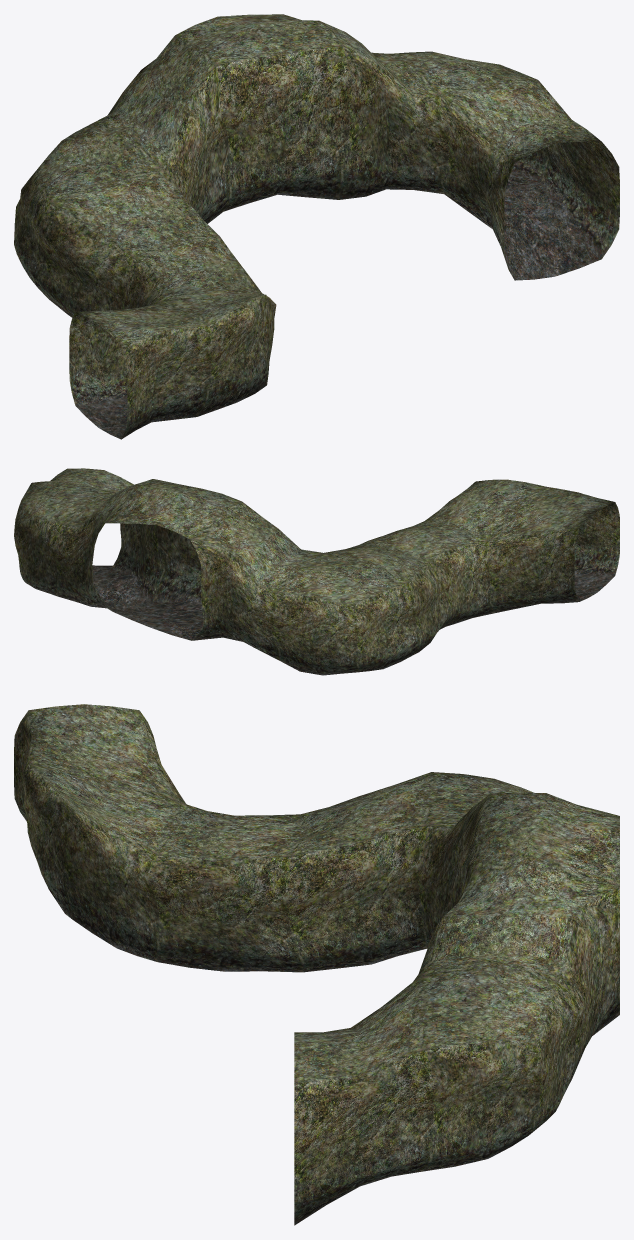
Rendered from thm_all_cave_s03_damprock_mirror_r25_r25.fbx.
The picture shows the model from 3 angles, top to bottom: view 1: azimuth 30°, elevation 25°; view 2: azimuth 150°, elevation 25°; view 3: azimuth 270°, elevation 25°; orthographic projection. The views are drawn at different scales.
Visible parts, largest first — view 1: mesh_node; view 2: mesh_node; view 3: mesh_node.
Part boxes in pixels (x1,y1,x2,y2): mesh_node: (14, 14, 619, 439); mesh_node: (14, 468, 619, 675); mesh_node: (14, 704, 619, 1225).
Size of the model in its own units: 48.48 by 17.17 by 34.59.
